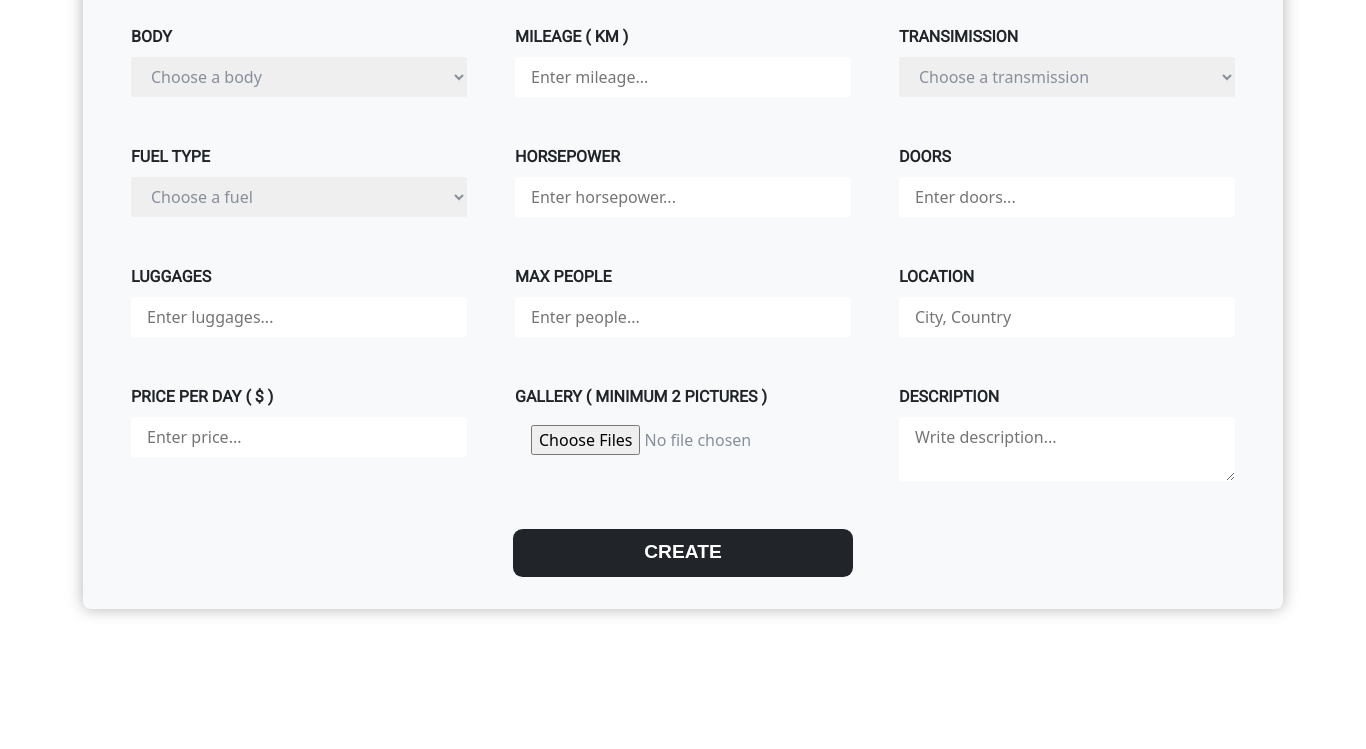
CreateCar Component › does NOT submit the form with empty data
The image size is (1366, 749).
(page scrolled)
Click the button "Create": click(683, 553) [513,529,853,577]
(page scrolled)
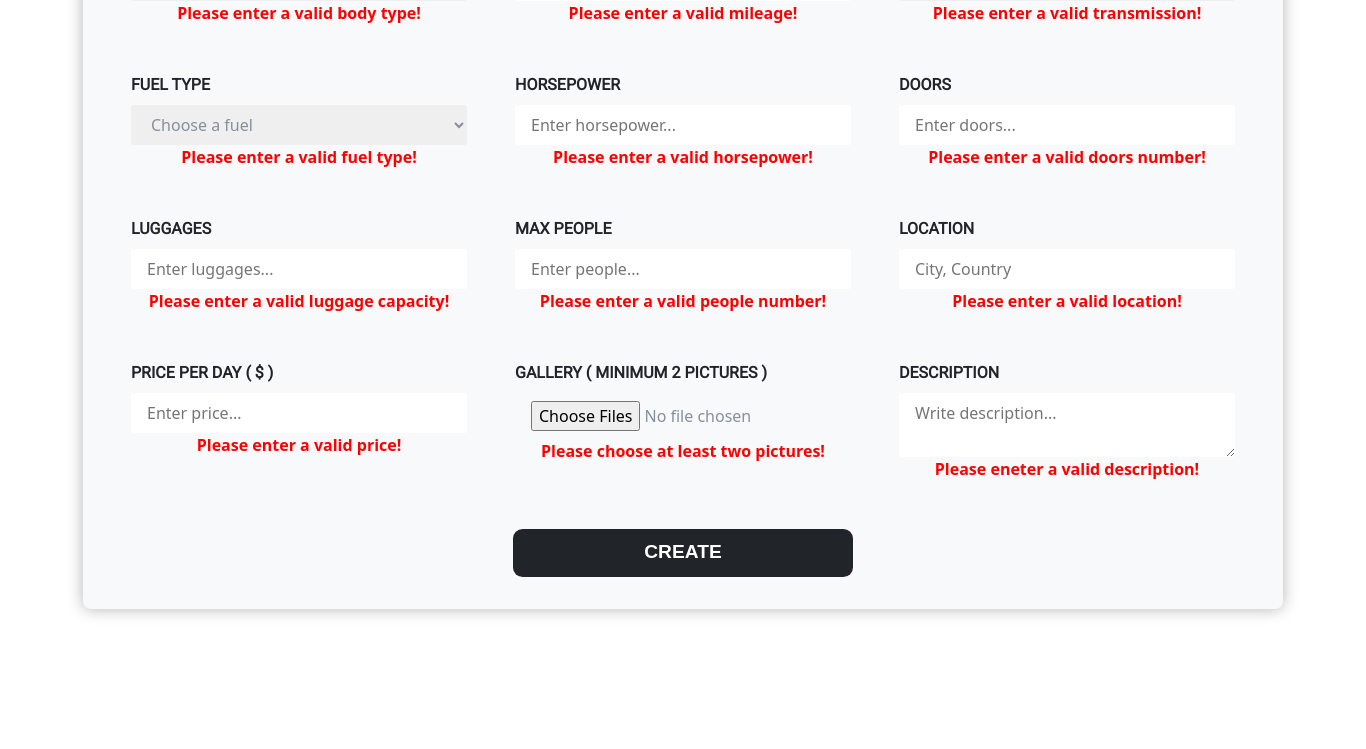
Check: the text "Please choose at least two pictures!" is shown, box [541,440,825,462]
